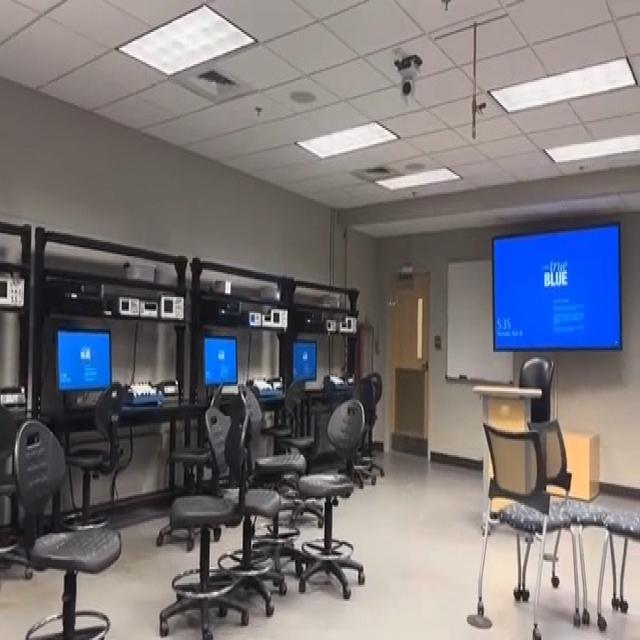drone: (383, 285, 403, 321)
